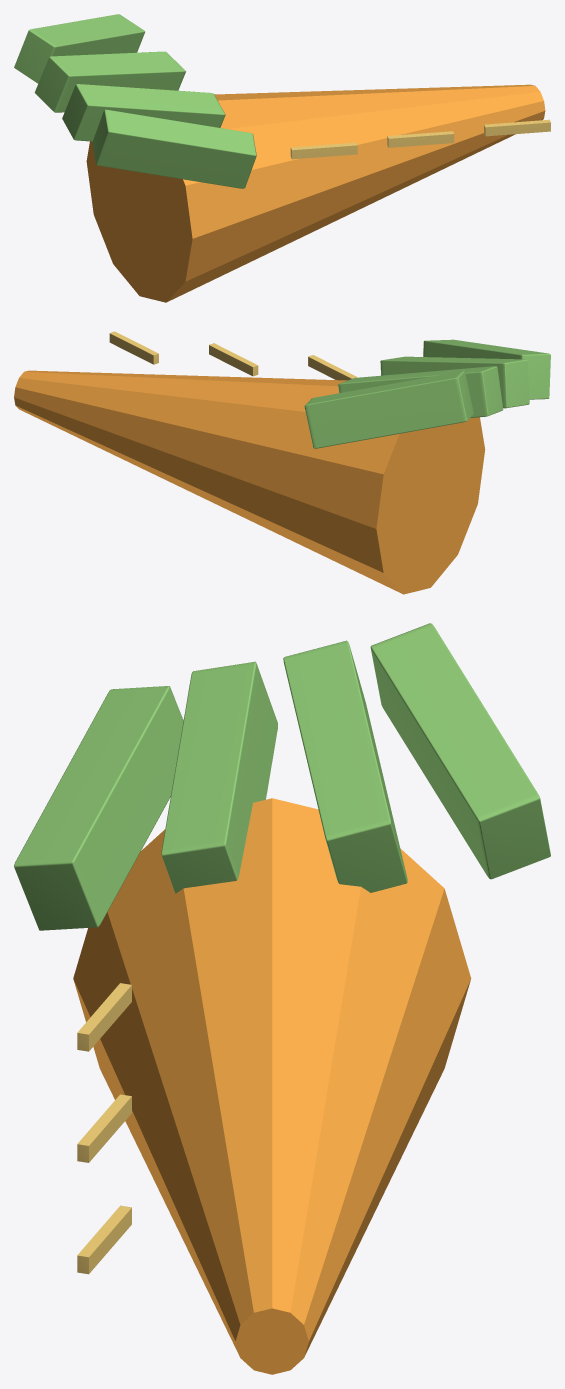
The model's file is carrot.glb.
3 renders of one model, top to bottom at view 1: azimuth 30°, elevation 25°; view 2: azimuth 150°, elevation 25°; view 3: azimuth 270°, elevation 25°, orthographic. The views are drawn at different scales.
Visible parts, largest first — view 1: tapered carrot root, leafy carrot top, leafy carrot top.002, leafy carrot top.001, leafy carrot top.003, carrot groove.001, carrot groove, carrot groove.002; view 2: tapered carrot root, leafy carrot top.003, leafy carrot top.001, leafy carrot top, leafy carrot top.002, carrot groove.001, carrot groove.002, carrot groove; view 3: tapered carrot root, leafy carrot top, leafy carrot top.003, leafy carrot top.001, leafy carrot top.002, carrot groove, carrot groove.001, carrot groove.002.
Boxes of the visible parts, <box> form: tapered carrot root: <box>86,84,545,302</box>; leafy carrot top: <box>92,109,256,188</box>; leafy carrot top.002: <box>34,51,185,112</box>; leafy carrot top.001: <box>62,84,225,141</box>; leafy carrot top.003: <box>14,14,145,83</box>; carrot groove.001: <box>387,131,454,147</box>; carrot groove: <box>290,142,357,159</box>; carrot groove.002: <box>484,119,550,136</box>; tapered carrot root: <box>14,370,485,594</box>; leafy carrot top.003: <box>304,371,473,448</box>; leafy carrot top.001: <box>380,356,529,408</box>; leafy carrot top: <box>423,339,550,399</box>; leafy carrot top.002: <box>338,366,503,417</box>; carrot groove.001: <box>209,343,258,376</box>; carrot groove.002: <box>109,331,158,364</box>; carrot groove: <box>308,355,357,380</box>; tapered carrot root: <box>73,798,471,1374</box>; leafy carrot top: <box>14,686,183,930</box>; leafy carrot top.003: <box>370,623,550,879</box>; leafy carrot top.001: <box>161,661,277,893</box>; leafy carrot top.002: <box>283,640,407,892</box>; carrot groove: <box>77,983,131,1051</box>; carrot groove.001: <box>77,1094,131,1162</box>; carrot groove.002: <box>77,1205,131,1274</box>.
Size of the model in its own units: 0.988 by 0.4985 by 0.5126.
